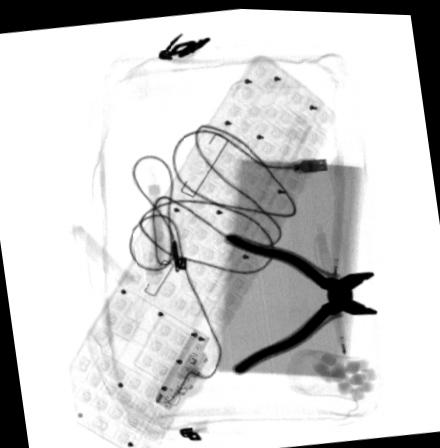Pliers: (222, 230, 380, 373)
